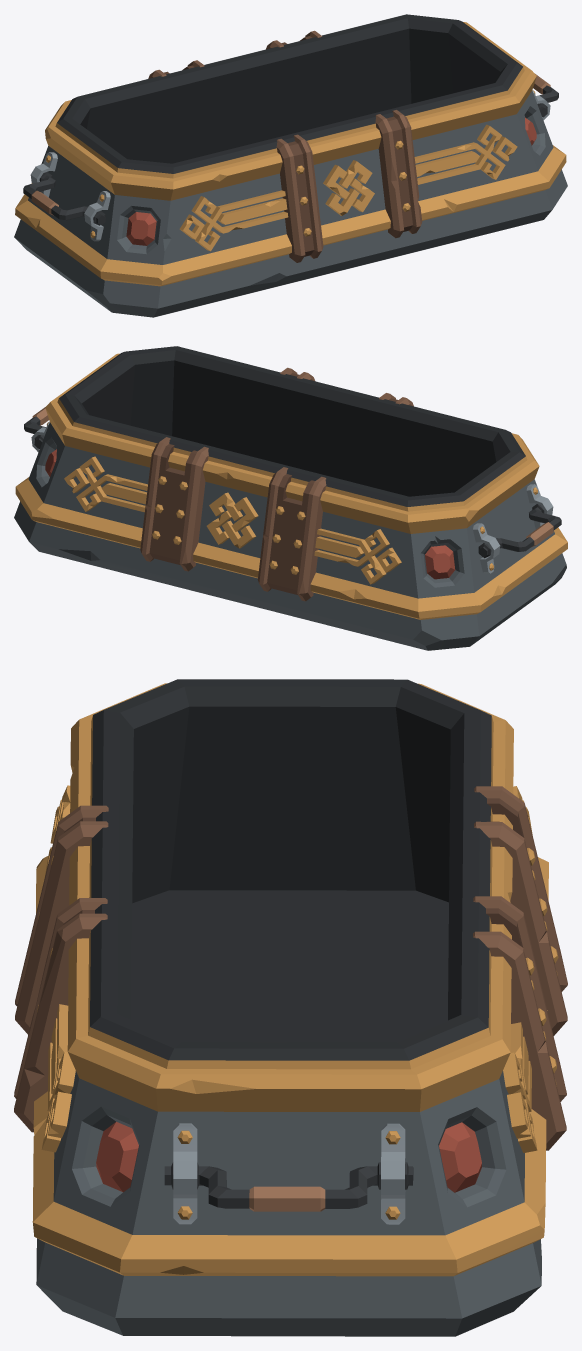
The model's file is forge_chest.gltf.
3 views of the same model, one above another, from view 1: azimuth 30°, elevation 25°; view 2: azimuth 150°, elevation 25°; view 3: azimuth 270°, elevation 25° (orthographic). The views are drawn at different scales.
Parts seen in each view (by area): view 1: forge_chest; view 2: forge_chest; view 3: forge_chest.
Boxes of the visible parts, x1=… form: forge_chest: x1=14, y1=14, x2=567, y2=317; forge_chest: x1=14, y1=346, x2=567, y2=650; forge_chest: x1=14, y1=679, x2=567, y2=1336.
Size of the model in its own units: 2.3 by 0.6084 by 1.12.
Materials: 1 (1 with a texture image).
